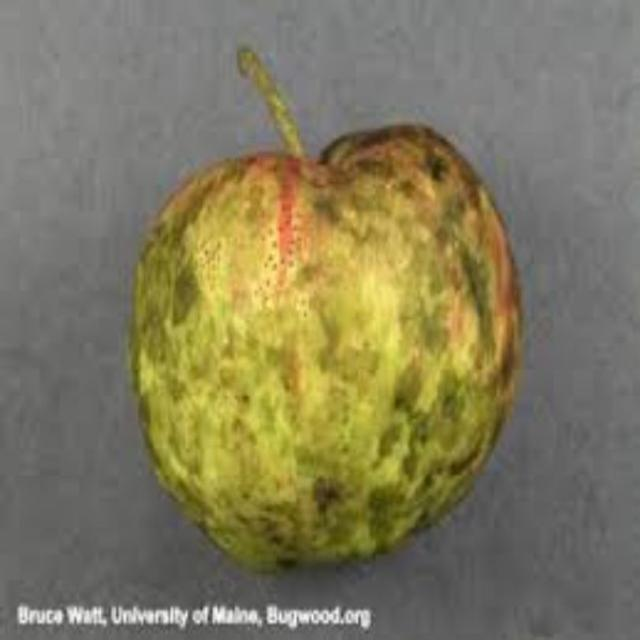Rotten Apple: (123, 94, 540, 566)
